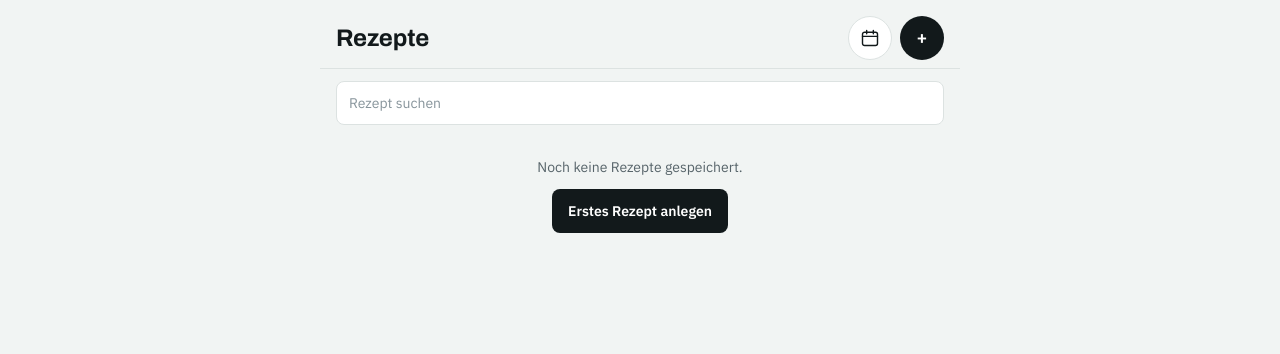
Scenario: Recipes › the add menu › closes when clicking outside
Click the button named "Rezept hinzufügen" at (922, 38), box 900,16 -> 944,60
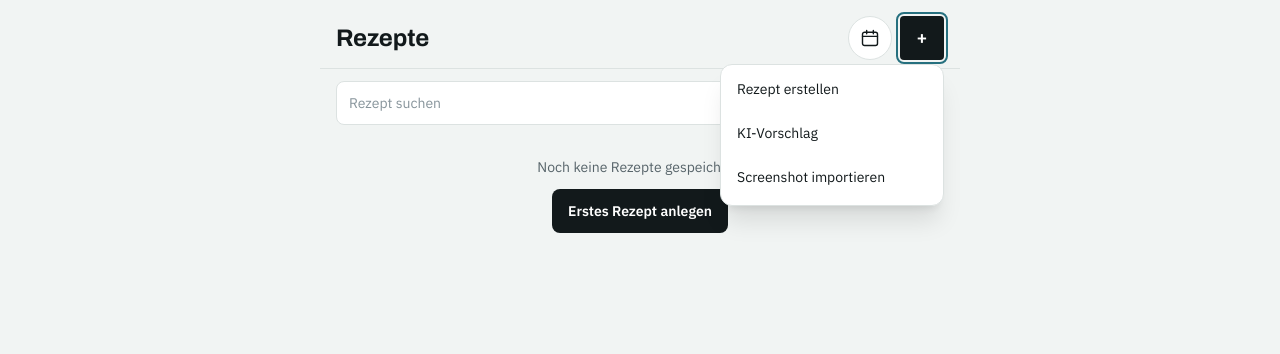
Click the element that starts with "Rezepte" at (640, 168), box 0,0 -> 1279,337
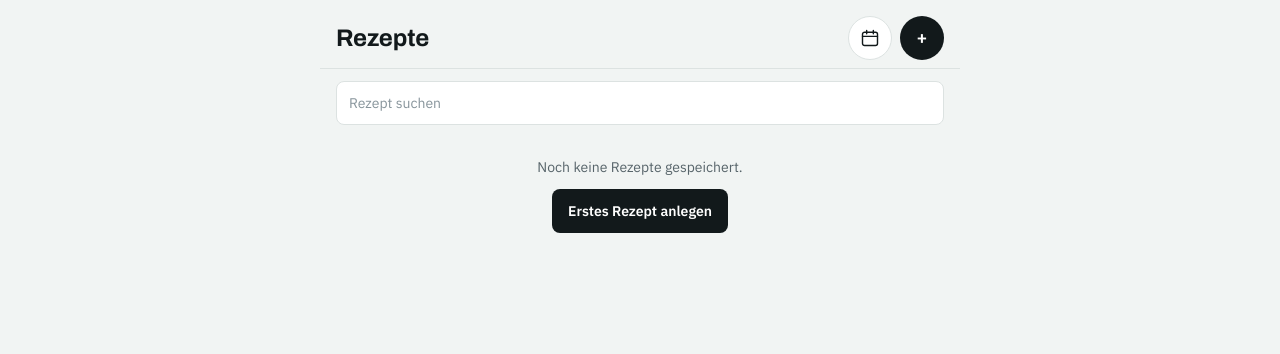
Result: the link "KI-Vorschlag" is gone
